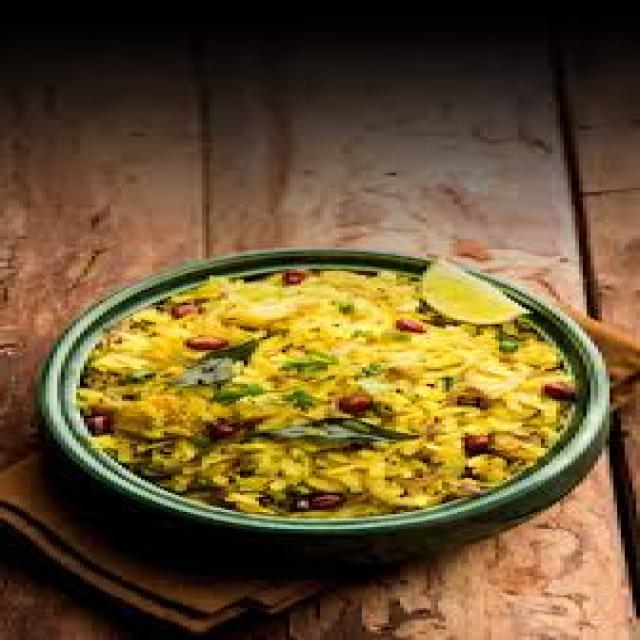POHA: (67, 275, 563, 520)
